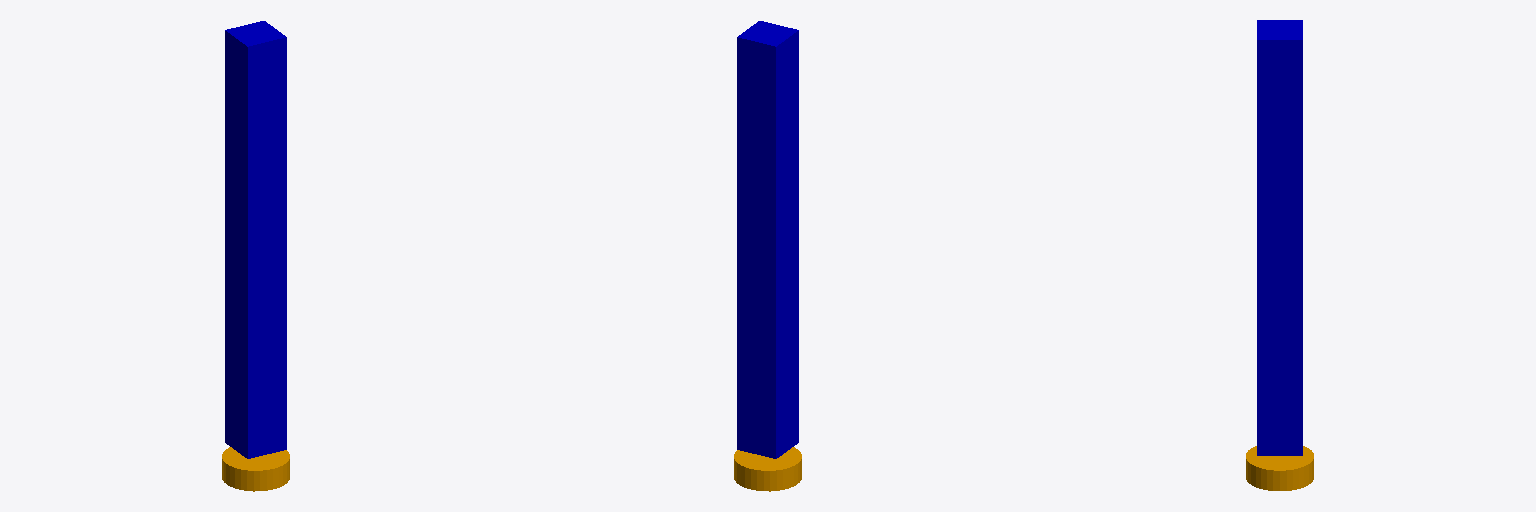
robot.urdf — OneJointRobot:
<?xml version="0.0" ?>
<robot name="OneJointRobot">
  <material name="blue">
    <color rgba="0 0 0.8 1"/>
  </material>
  <material name="white">
    <color rgba="1 1 1 1"/>
  </material>

  <link name="base_link">
    <visual>
      <geometry>
        <cylinder length="0.05" radius="0.075"/>
      </geometry>
      <origin rpy="0 0 0" xyz="0 0 0.025"/>
    </visual>
    <collision>
      <geometry>
        <cylinder length="0.05" radius="0.075"/>
      </geometry>
      <origin rpy="0 0 0" xyz="0 0 0.025"/>
    </collision>
    <inertial>
      <mass value="0.2"/>
      <origin rpy="0 0 0" xyz="0 0 0"/>
      <inertia ixx="0.000322916666667" ixy="0.0" ixz="0.0" iyy="0.000322916666667" iyz="0.0" izz="0.0005625"/>
    </inertial>
  </link>

  <joint name="joint_1" type="revolute">
    <axis xyz="0 1 0"/>
    <limit effort="10000" velocity="100"/>
    <dynamics damping="0" friction="0"/>
    <origin rpy="0 -1.5708 0" xyz="0 0 0.075"/>
    <parent link="base_link"/>
    <child link="link_1"/>
  </joint>

  <link name="link_1">
    <visual>
      <geometry>
        <box size="1.0 0.1 0.1"/>
      </geometry>
      <origin rpy="0 0 0" xyz="0.5 0 0"/>
      <material name="blue"/>
    </visual>
    <collision>
      <geometry>
        <box size="1.0 0.1 0.1"/>
      </geometry>
      <origin rpy="0 0 0" xyz="0.5 0 0"/>
    </collision>
    <inertial>
      <mass value="0.5"/>
      <origin rpy="0 0 0" xyz="0.5 0 0"/>
      <inertia ixx="0.00208333333333" ixy="0.0125" ixz="0.00625" iyy="0.167083333333" iyz="0.000625" izz="0.168333333333"/>
    </inertial>
  </link>

</robot>

--- Facts derived from the render (not from the file) ---
Views: 3 orthographic renders of the robot side by side, from view 1: azimuth 30°, elevation 25°; view 2: azimuth 150°, elevation 25°; view 3: azimuth 270°, elevation 25°.
Robot: OneJointRobot — 2 links, 1 joints (1 revolute); root link base_link; default pose: all joints at 0.
Visible links, largest first — view 1: link_1, base_link; view 2: link_1, base_link; view 3: link_1, base_link.
Link boxes in pixels (x1,y1,x2,y2): link_1: (225,21,286,458); base_link: (222,447,289,491); link_1: (737,21,798,458); base_link: (734,447,801,491); link_1: (1257,20,1302,455); base_link: (1246,446,1313,490).
Bounding box of the posed robot: 0.15 × 0.15 × 1.07 m (x, y, z).
Geometry: primitives only (box / cylinder / sphere), no mesh files.